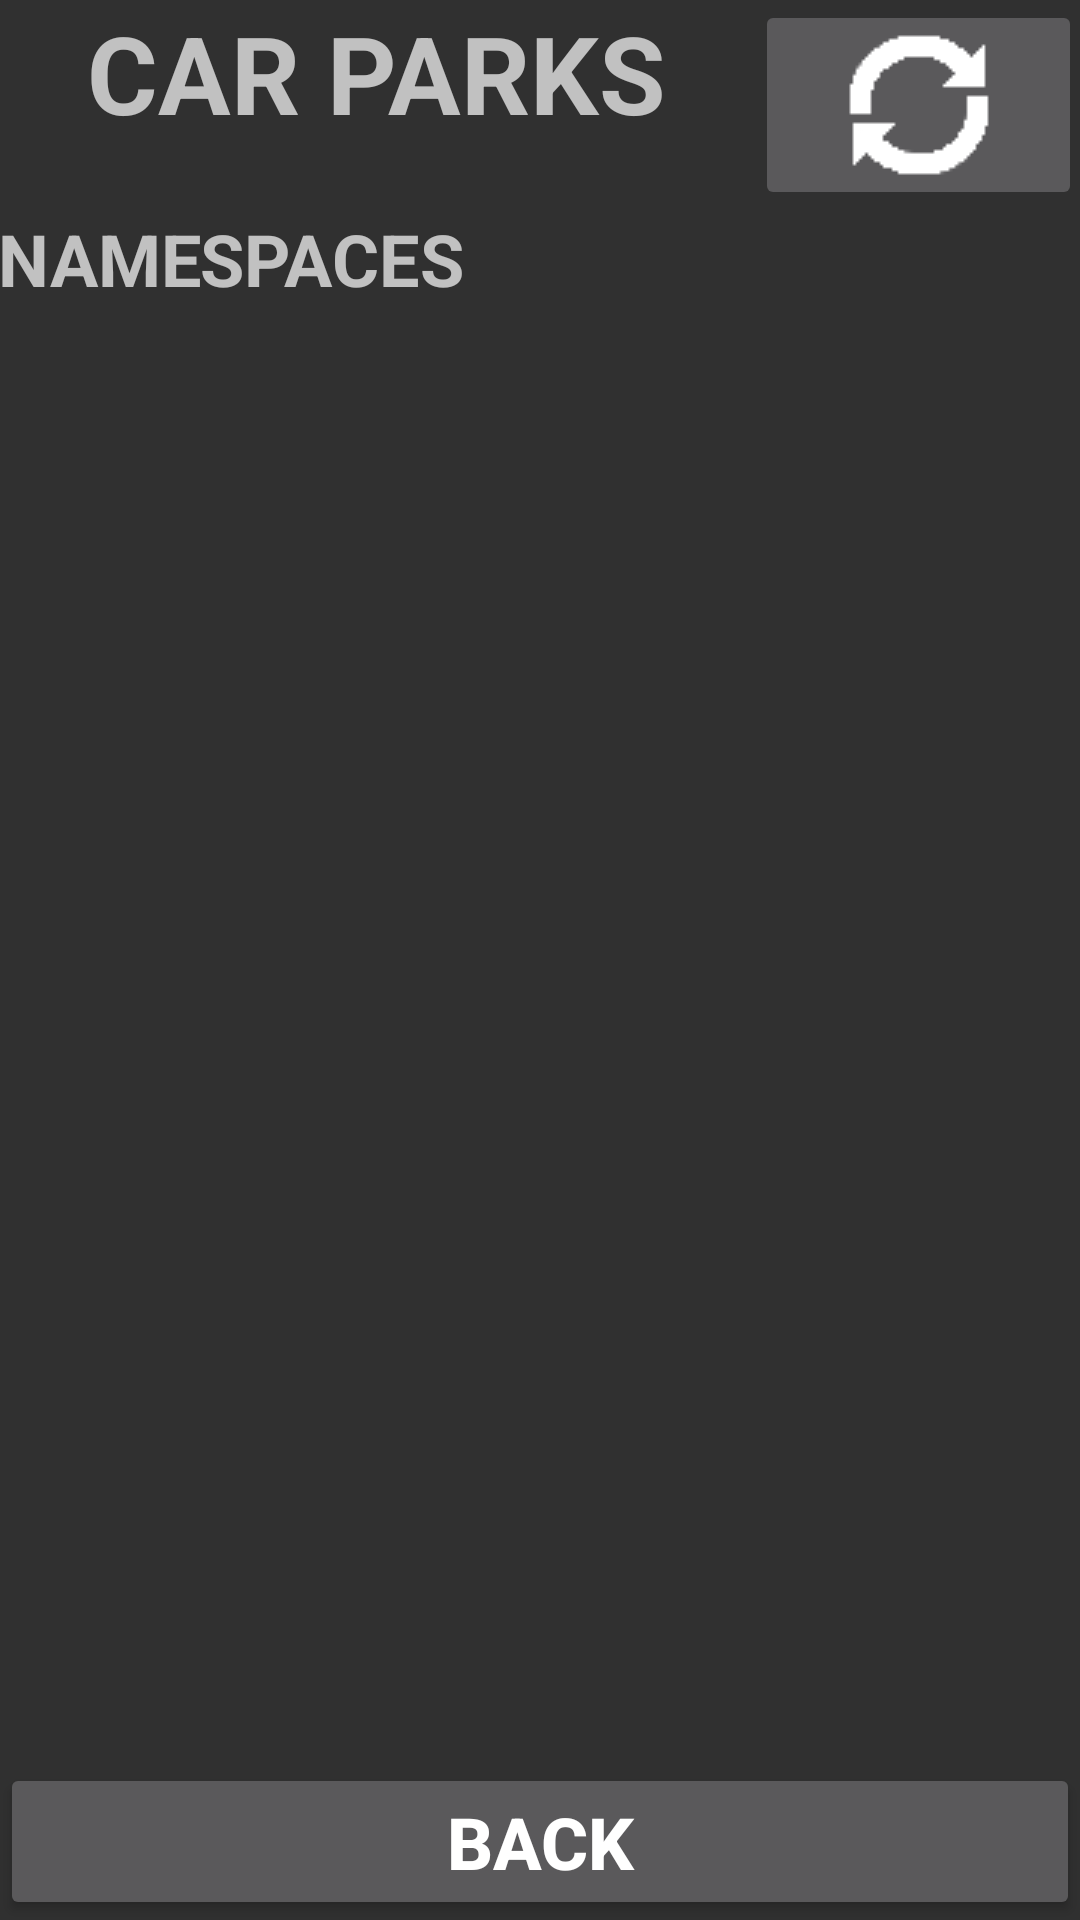

Where to tap for icons on this 1080w x 1920h app screen, as [x,y]:
Refresh activity information: [918,105]
